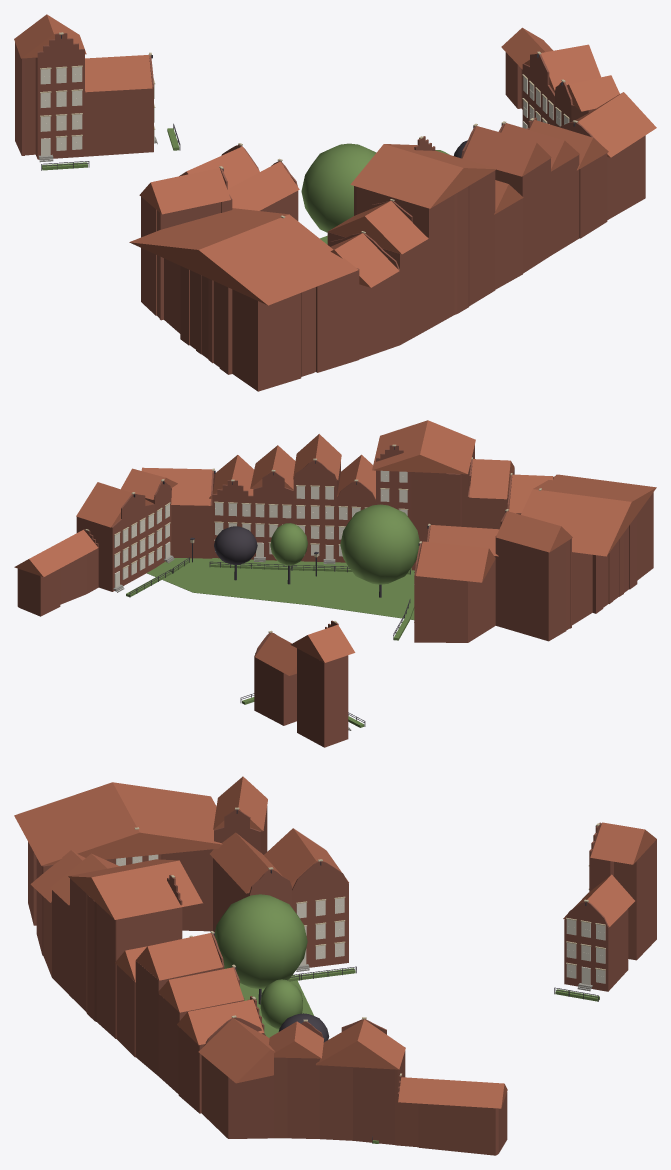
File: begijnhof.glb
The picture shows the model from 3 angles, top to bottom: view 1: azimuth 30°, elevation 25°; view 2: azimuth 150°, elevation 25°; view 3: azimuth 270°, elevation 25°; orthographic projection. The views are drawn at different scales.
Parts seen in each view (by area): view 1: begijnhof; view 2: begijnhof; view 3: begijnhof.
Boxes of the visible parts, left/top/right/bottom form: begijnhof: left=14, top=14, right=656, bottom=391; begijnhof: left=14, top=420, right=656, bottom=747; begijnhof: left=14, top=776, right=656, bottom=1155.
Size of the model in its own units: 74.29 by 18.1 by 74.61.
